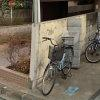bicycles: (39, 36, 75, 96), (83, 19, 100, 63)
